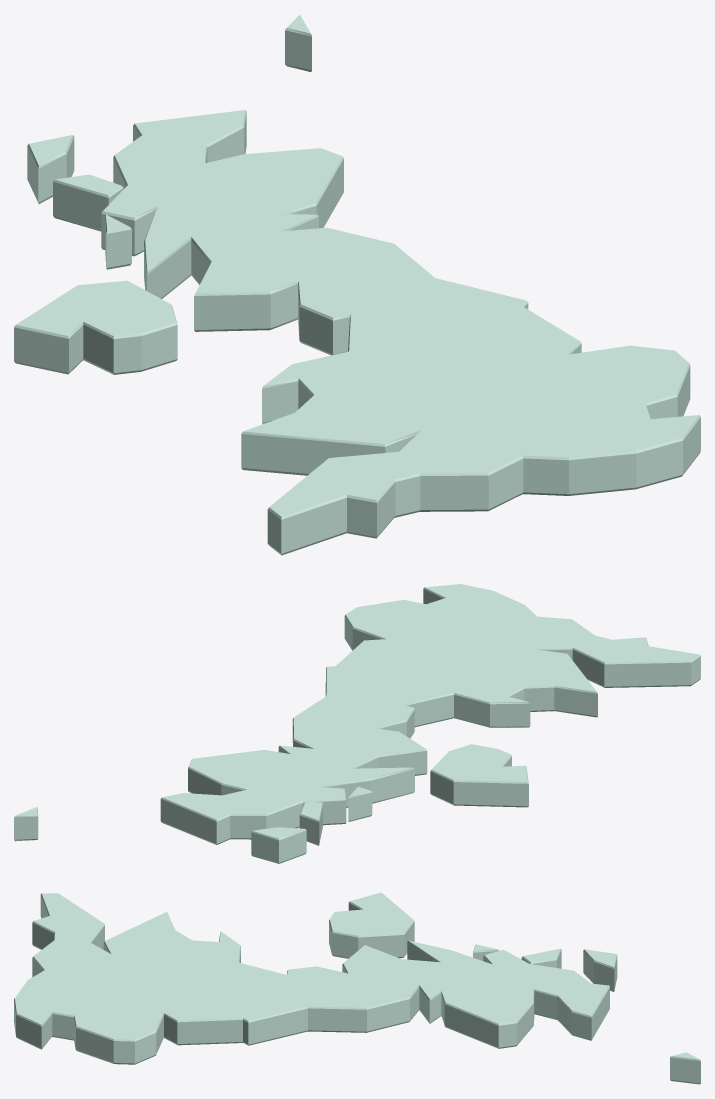
Rendered from GBR.glb.
3 renders of one model, top to bottom at view 1: azimuth 30°, elevation 25°; view 2: azimuth 150°, elevation 25°; view 3: azimuth 270°, elevation 25°, orthographic. The views are drawn at different scales.
Size of the model in its own units: 0.9844 by 0.068 by 1.7.
